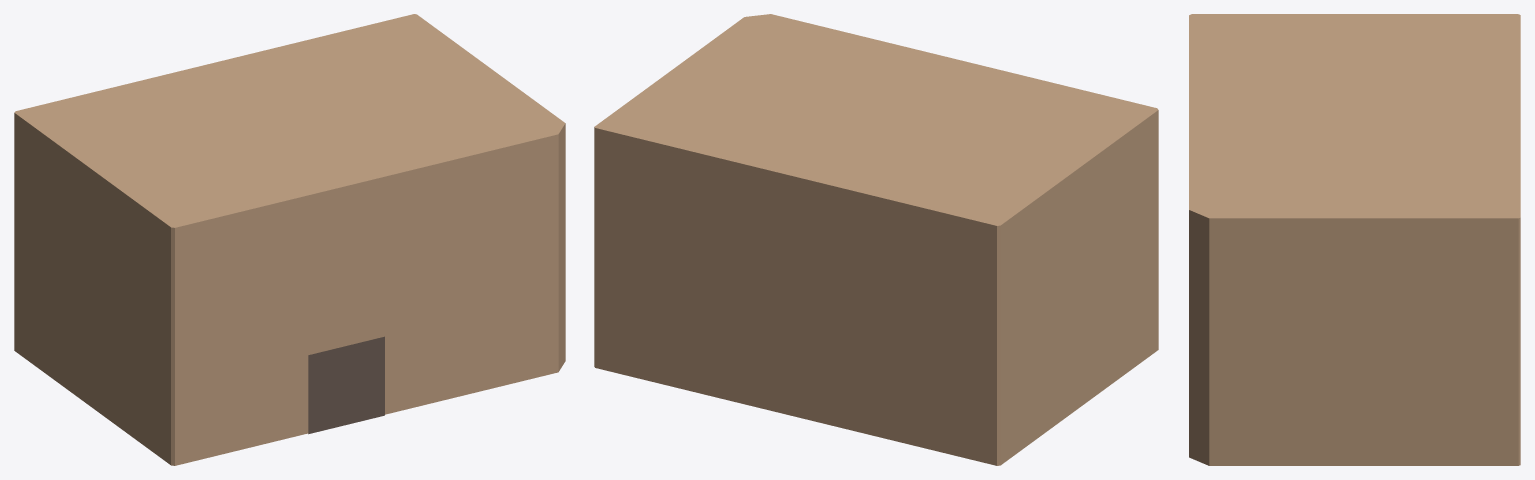
The model's file is loin-etape-1.glb.
3 renders of one model, left to right at view 1: azimuth 30°, elevation 25°; view 2: azimuth 150°, elevation 25°; view 3: azimuth 270°, elevation 25°, orthographic. The views are drawn at different scales.
Parts seen in each view (by area): view 1: loin; view 2: loin; view 3: loin.
Boxes of the visible parts, x1,y1,x2,y2 form: loin: [14, 14, 565, 465]; loin: [594, 14, 1158, 465]; loin: [1189, 14, 1520, 465].
Bounding box in the file's own units: 0.914 × 0.5165 × 0.6301.
